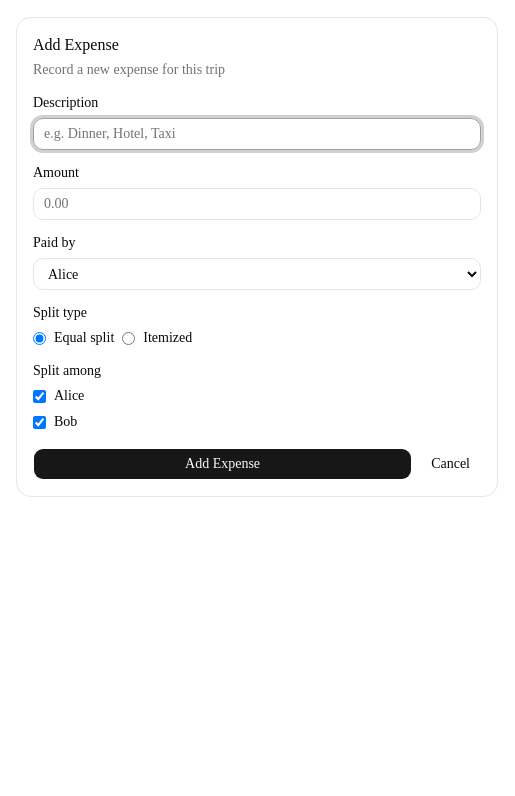
Test: AddExpenseFormView › itemized split › shows item description required error when a line item has no description
The image size is (515, 796).
Type "Dinner" into the field with placeholder "e.g. Dinner, Hotel, Taxi".
click(257, 134); type("Dinner")  # box [33,118,481,150]
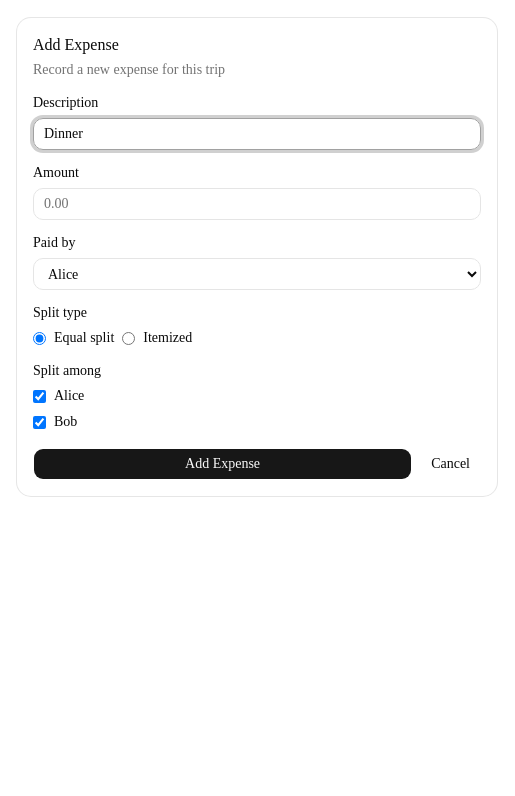
Type "10.00" into the field with placeholder "0.00".
click(257, 204); type("10.00")  # box [33,188,481,220]
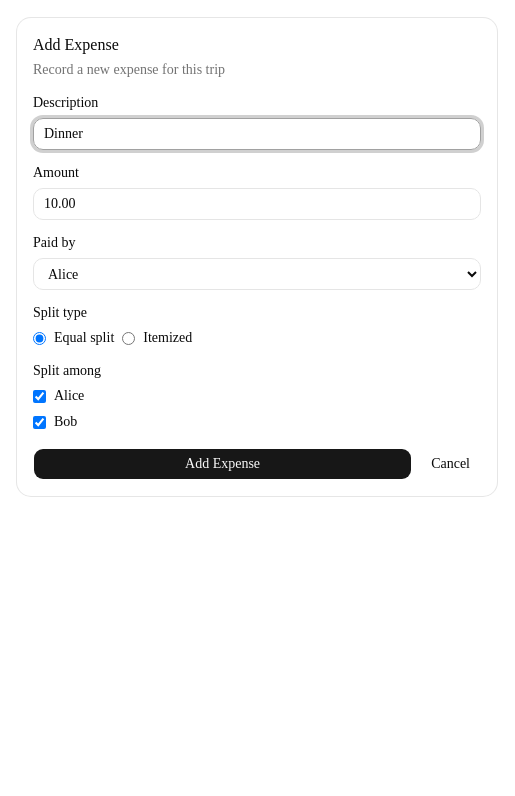
Click the radio button labelled "Itemized".
click(129, 338)  # box [122,332,135,344]
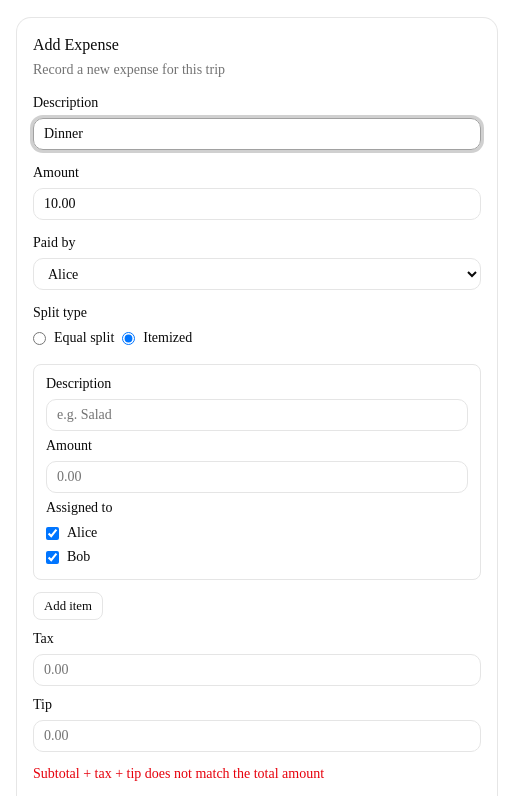
Leave the item description empty, set a matching amount
Type "10.00" into the 2nd field labelled "Amount".
click(257, 477); type("10.00")  # box [46,461,468,493]
(page scrolled)
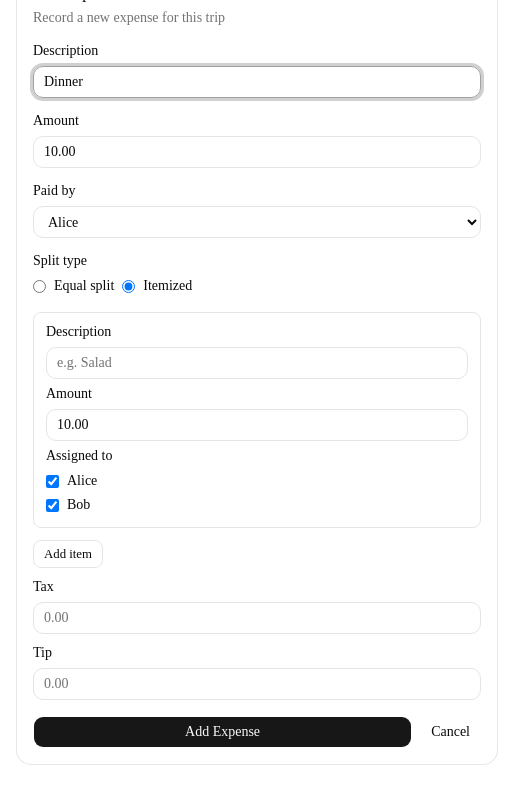
Click the button "Add Expense".
click(223, 732)  # box [33,716,412,748]
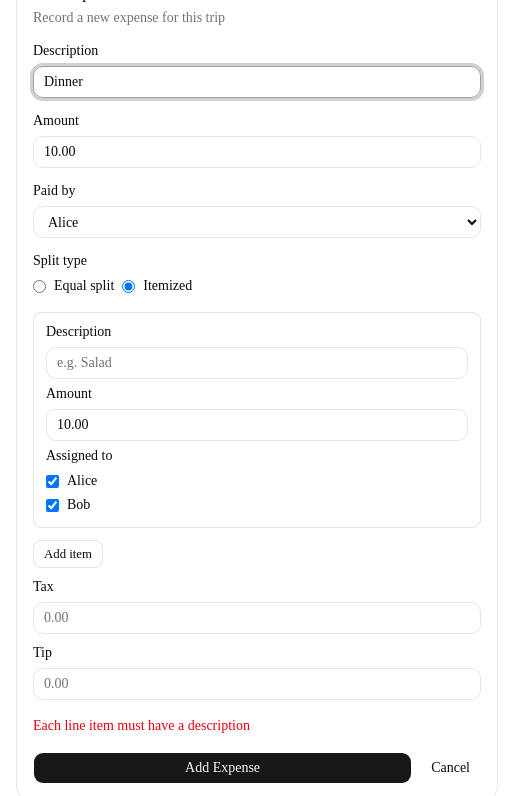
expect the text "Each line item must have a description" is shown: met, box [33,718,250,733]
